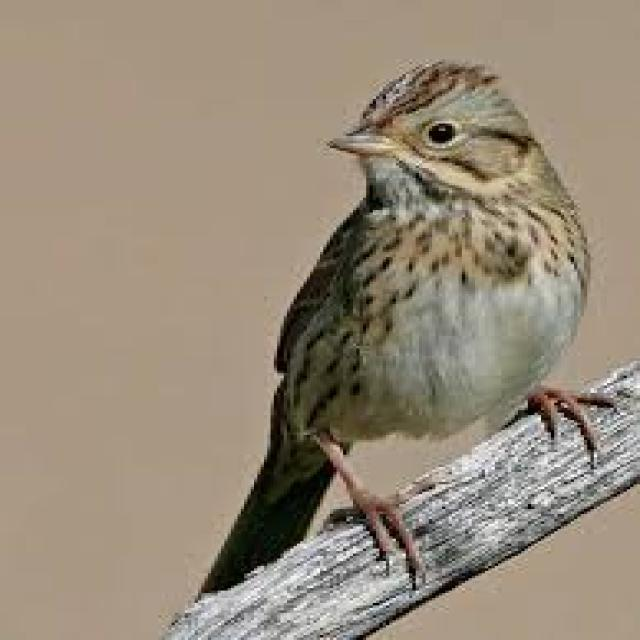Sparrow: (211, 55, 609, 573)
